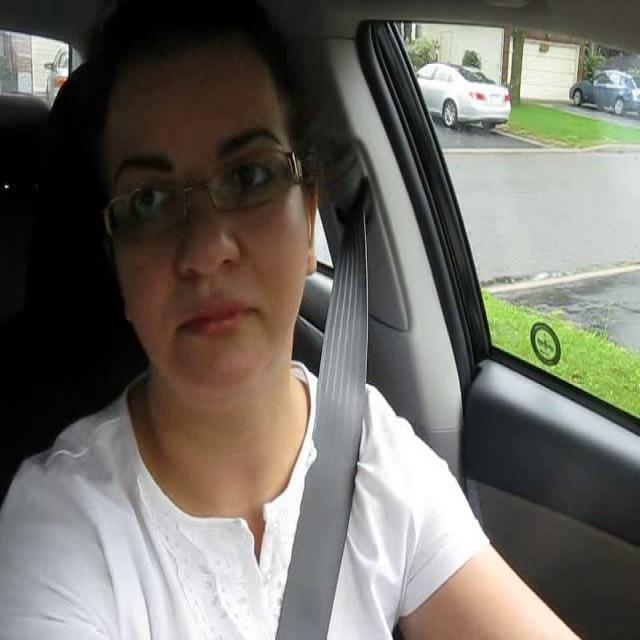open: (105, 143, 185, 241), (208, 121, 286, 208)
